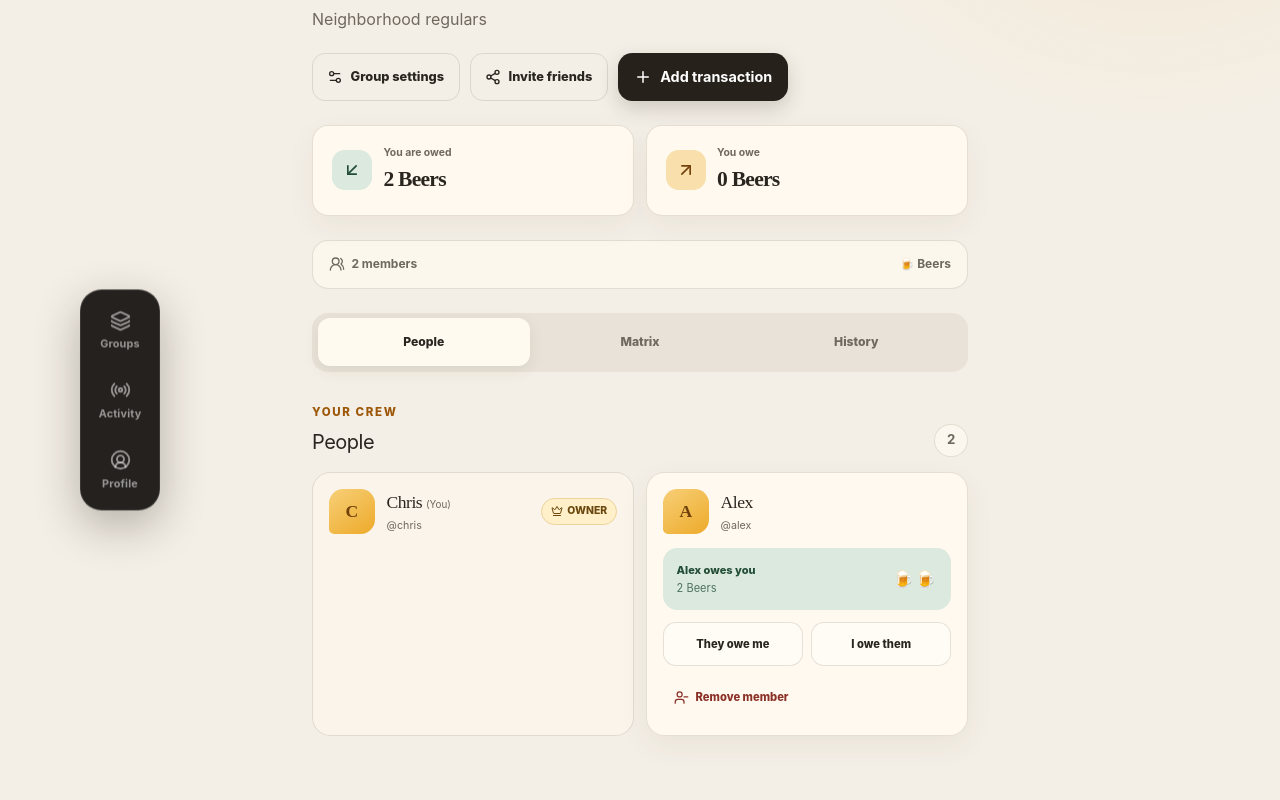
BeerMe app shell › renders the group dashboard, quick transaction flow, and history
(page scrolled)
Expected: the heading "People" is shown, [312,430,374,454]
Expected: the text "You are owed" is shown, [383,145,452,161]
Click the button with aria-label "I owe Alex". click: click(881, 644)
box: [811,622,951,666]
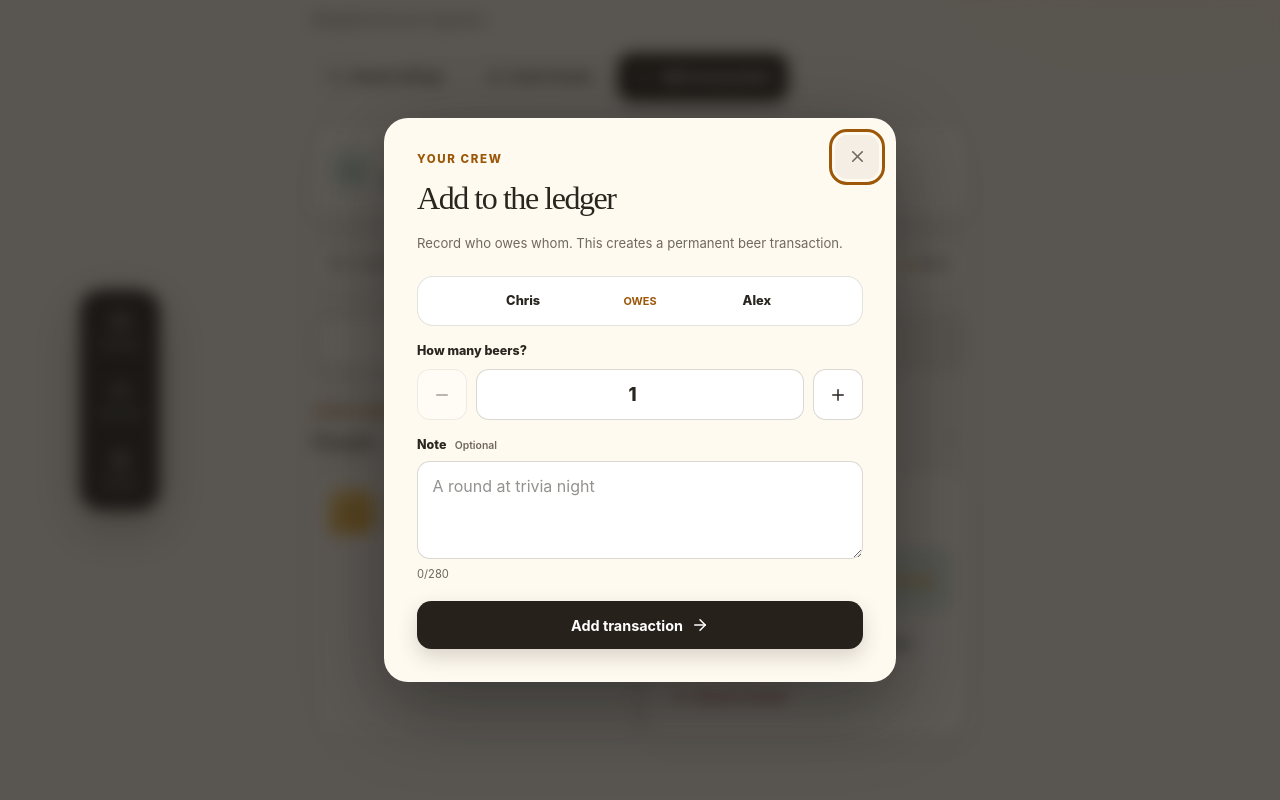
Now the element named "Transaction direction" reads "Chris owes Alex", box [417,276,863,326]
Click the 2nd button named "Close dialog". click: click(857, 157)
box: [835,135,879,179]
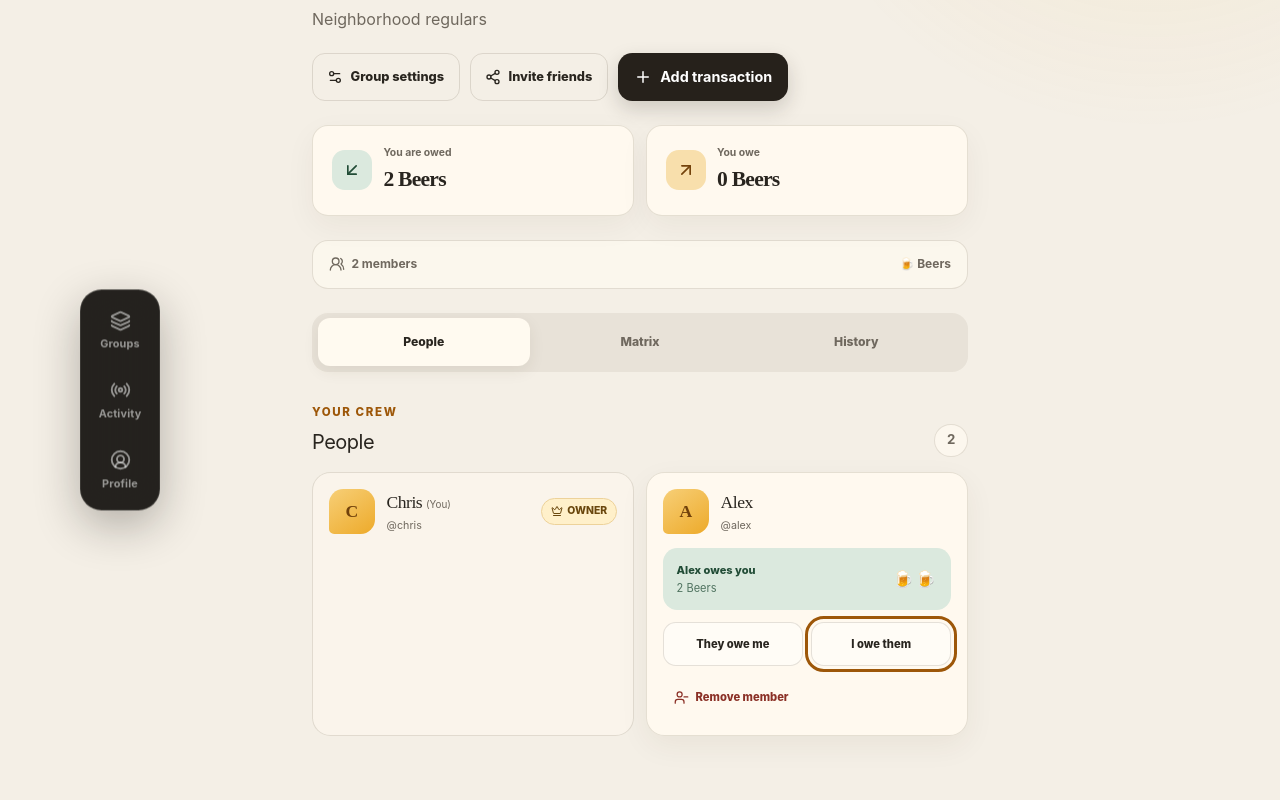
Click the button "Matrix". click: click(640, 342)
box: [534,318,746,366]
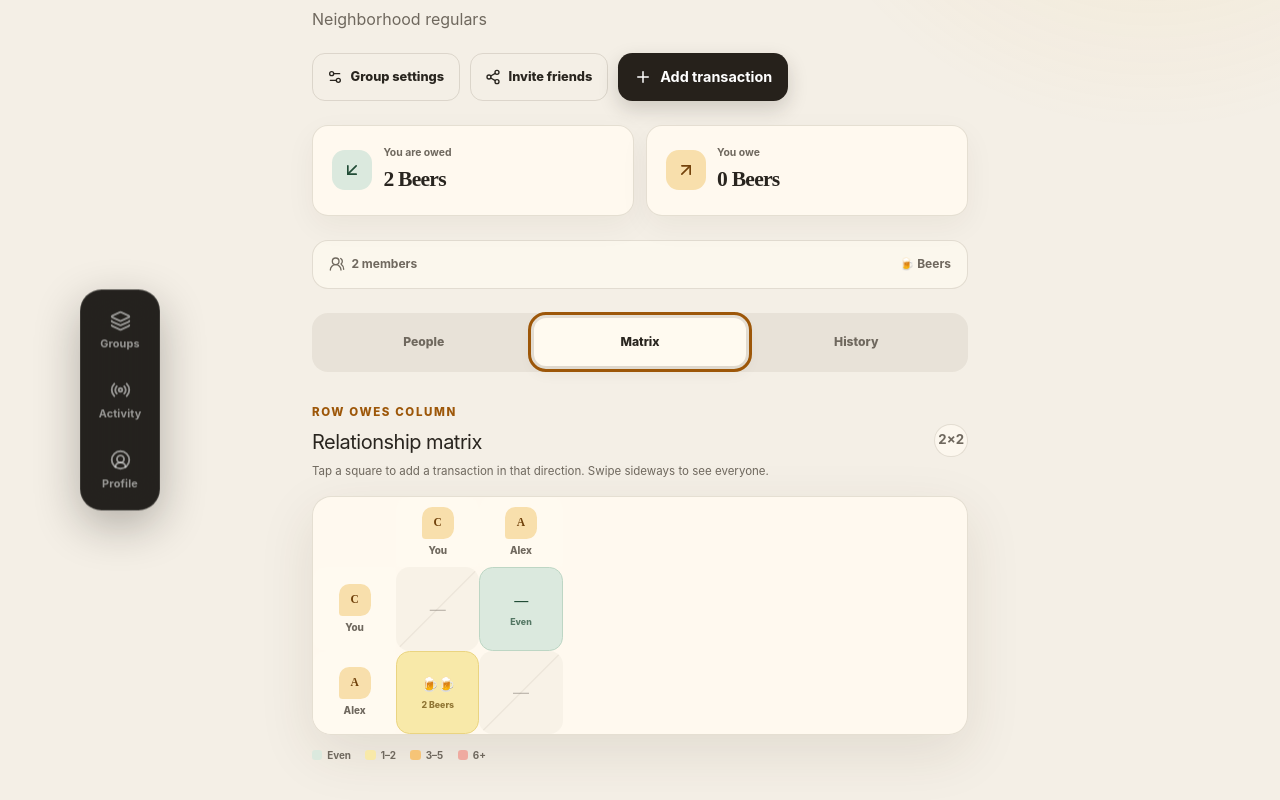
Now the heading "Relationship matrix" is shown, box [312,427,482,457]
Click the button with aria-label "Alex owes You 2 Beers". click: click(438, 692)
box: [396,650,479,734]
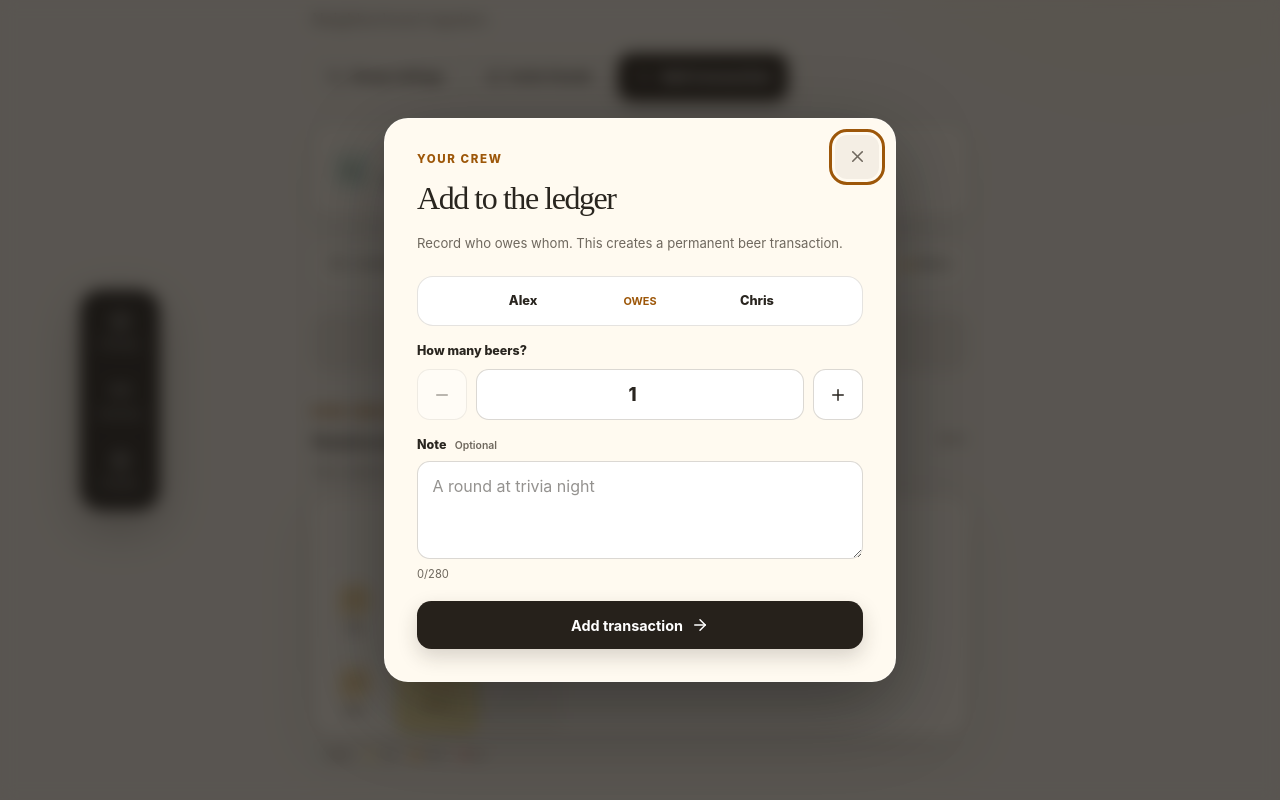
Now the element named "Transaction direction" reads "Alex owes Chris", box [417,276,863,326]
Click the button named "Close dialog" in the row of "Your crew". click: click(857, 157)
box: [835,135,879,179]
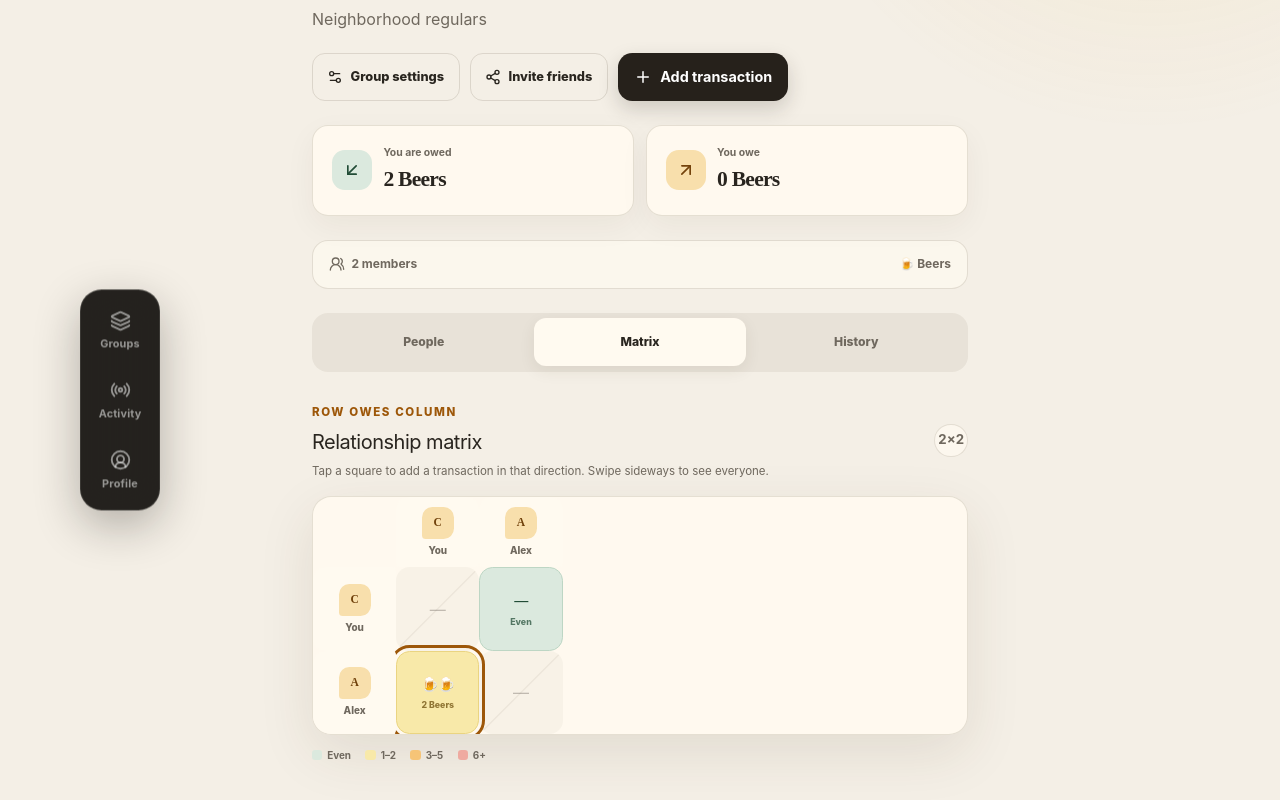
Click the button "History". click: click(856, 342)
box: [750,318,962,366]
(page scrolled)
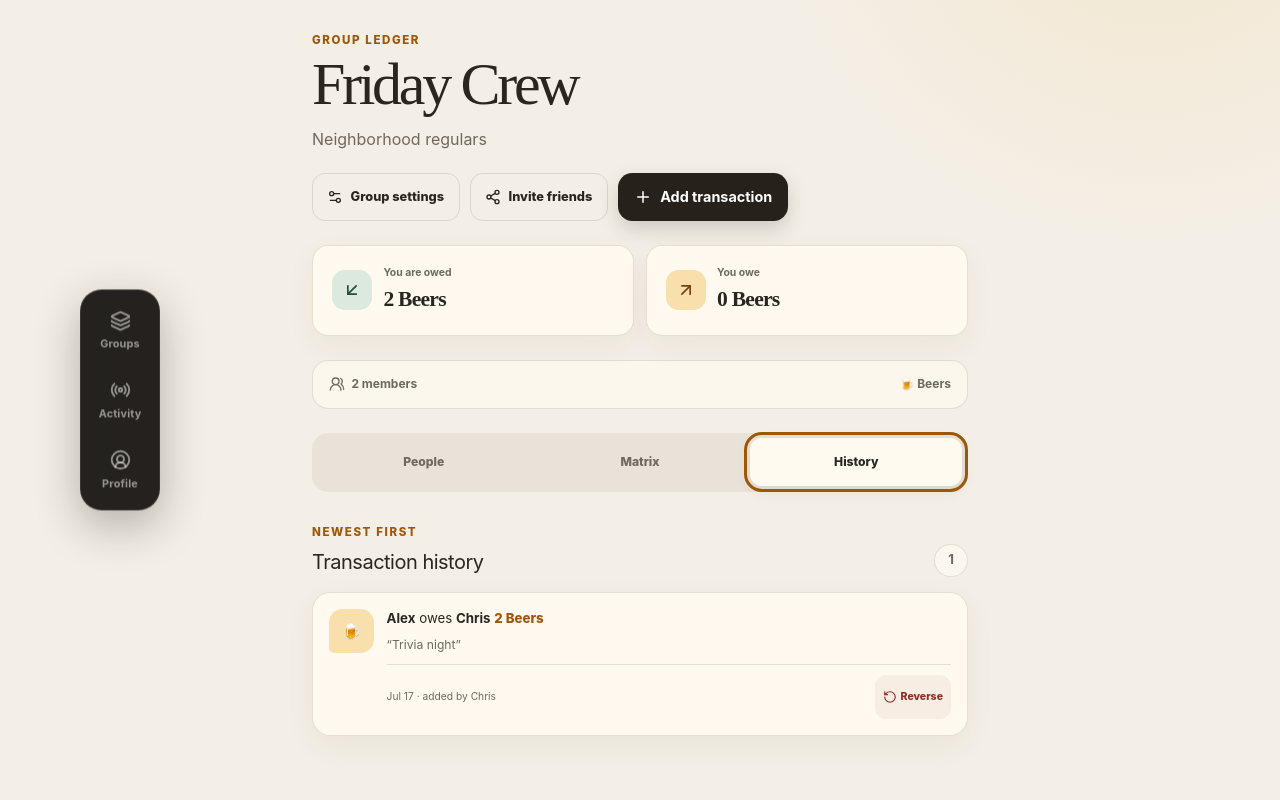
Now the heading "Transaction history" is shown, box [312,547,484,577]
Now the text "“Trivia night”" is shown, box [387,637,461,652]
